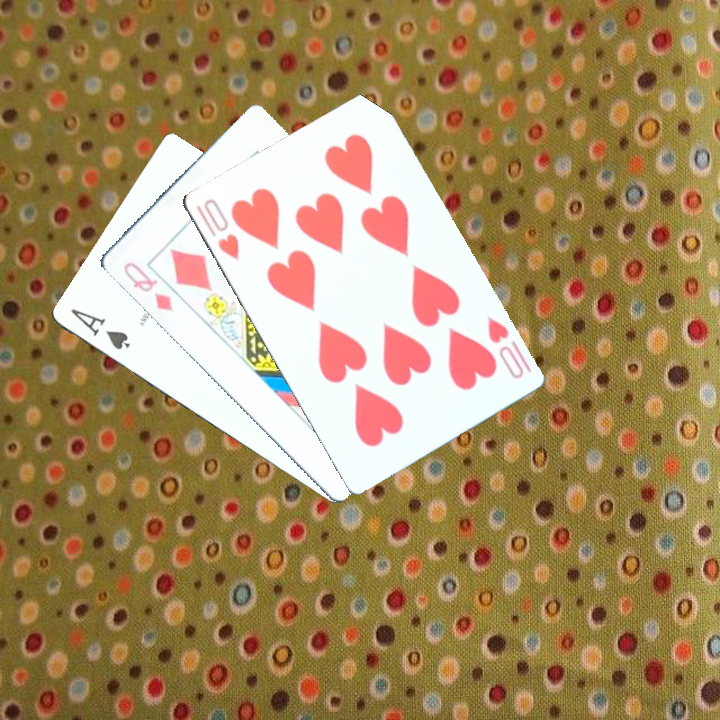10h: (482, 312, 527, 382), (199, 194, 242, 263)
As: (66, 304, 133, 353)
Qd: (119, 255, 187, 314)
